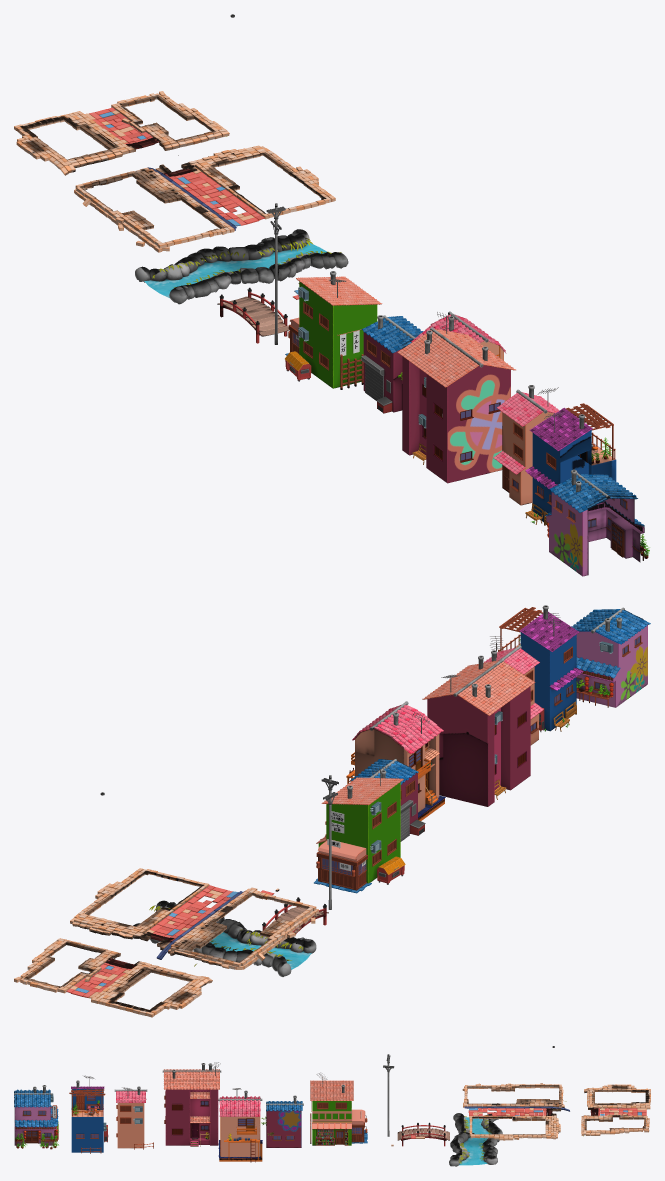
File: Scene_Color_asset.fbx
The picture shows the model from 3 angles, top to bottom: view 1: azimuth 30°, elevation 25°; view 2: azimuth 150°, elevation 25°; view 3: azimuth 270°, elevation 25°; orthographic projection. The views are drawn at different scales.
Visible parts, largest first — view 1: defaultMaterial.008, defaultMaterial.009, defaultMaterial.002, defaultMaterial.016, defaultMaterial.003, defaultMaterial.001, defaultMaterial.005, defaultMaterial.006, defaultMaterial.007, defaultMaterial; view 2: defaultMaterial.008, defaultMaterial.009, defaultMaterial.002, defaultMaterial.003, defaultMaterial.001, defaultMaterial, defaultMaterial.016, defaultMaterial.006, defaultMaterial.005, defaultMaterial.007; view 3: defaultMaterial.008, defaultMaterial.009, defaultMaterial.002, defaultMaterial, defaultMaterial.003, defaultMaterial.001, defaultMaterial.016, defaultMaterial.005, defaultMaterial.006, defaultMaterial.007, defaultMaterial.010.
Part boxes in pixels (x1=…): defaultMaterial.008: x1=14, y1=14, x2=335, y2=252; defaultMaterial.009: x1=397, y1=312, x2=515, y2=483; defaultMaterial.002: x1=285, y1=271, x2=382, y2=389; defaultMaterial.016: x1=135, y1=229, x2=348, y2=304; defaultMaterial.003: x1=544, y1=469, x2=649, y2=576; defaultMaterial.001: x1=525, y1=403, x2=616, y2=525; defaultMaterial.005: x1=493, y1=385, x2=559, y2=505; defaultMaterial.006: x1=361, y1=315, x2=423, y2=413; defaultMaterial.007: x1=217, y1=287, x2=289, y2=343; defaultMaterial: x1=411, y1=311, x2=506, y2=360; defaultMaterial.008: x1=14, y1=792, x2=318, y2=1017; defaultMaterial.009: x1=422, y1=655, x2=535, y2=806; defaultMaterial.002: x1=314, y1=764, x2=405, y2=893; defaultMaterial.003: x1=571, y1=607, x2=650, y2=707; defaultMaterial.001: x1=498, y1=605, x2=583, y2=731; defaultMaterial: x1=346, y1=701, x2=445, y2=820; defaultMaterial.016: x1=133, y1=900, x2=316, y2=976; defaultMaterial.006: x1=351, y1=758, x2=425, y2=841; defaultMaterial.005: x1=484, y1=636, x2=543, y2=745; defaultMaterial.007: x1=262, y1=897, x2=328, y2=934; defaultMaterial.008: x1=462, y1=1046, x2=650, y2=1140; defaultMaterial.009: x1=162, y1=1062, x2=221, y2=1146; defaultMaterial.002: x1=310, y1=1072, x2=367, y2=1145; defaultMaterial: x1=218, y1=1088, x2=262, y2=1162; defaultMaterial.003: x1=14, y1=1085, x2=58, y2=1149; defaultMaterial.001: x1=69, y1=1075, x2=108, y2=1153; defaultMaterial.016: x1=449, y1=1112, x2=502, y2=1166; defaultMaterial.005: x1=114, y1=1086, x2=153, y2=1149; defaultMaterial.006: x1=266, y1=1095, x2=303, y2=1147; defaultMaterial.007: x1=397, y1=1122, x2=449, y2=1146; defaultMaterial.010: x1=383, y1=1054, x2=394, y2=1136.
Size of the model in its own units: 12085 by 11974 by 57064.
